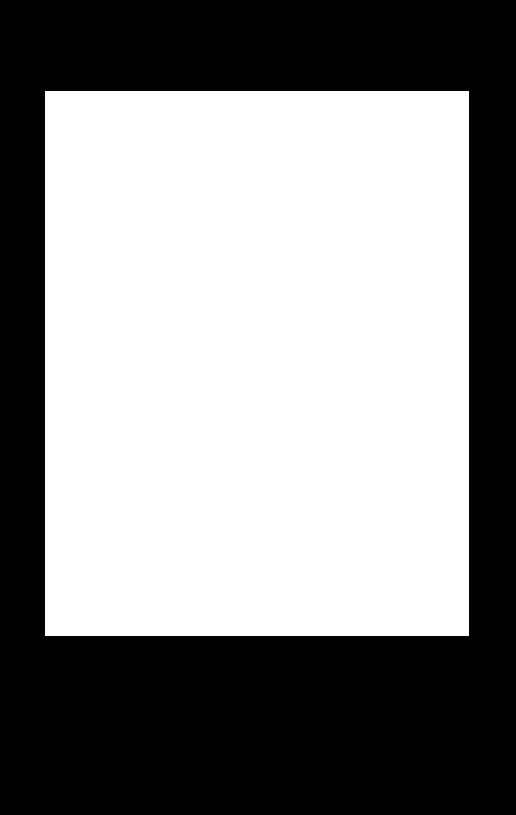table: (45, 91, 468, 635)
